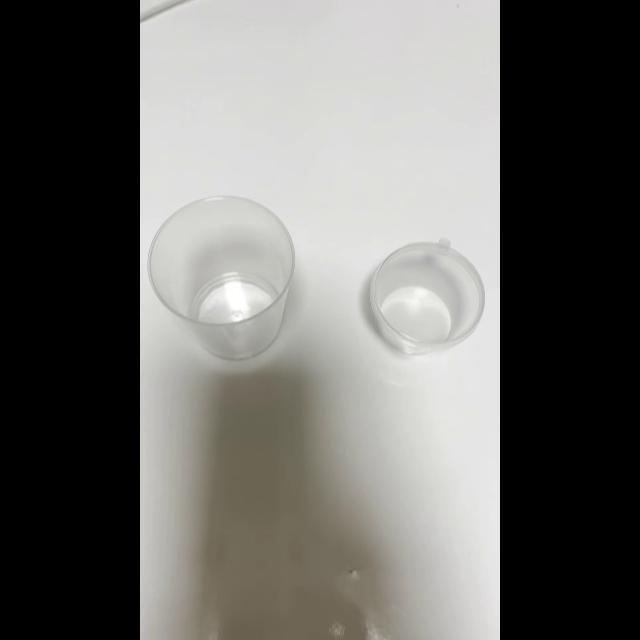clean: (156, 193, 290, 361), (370, 241, 480, 345)
